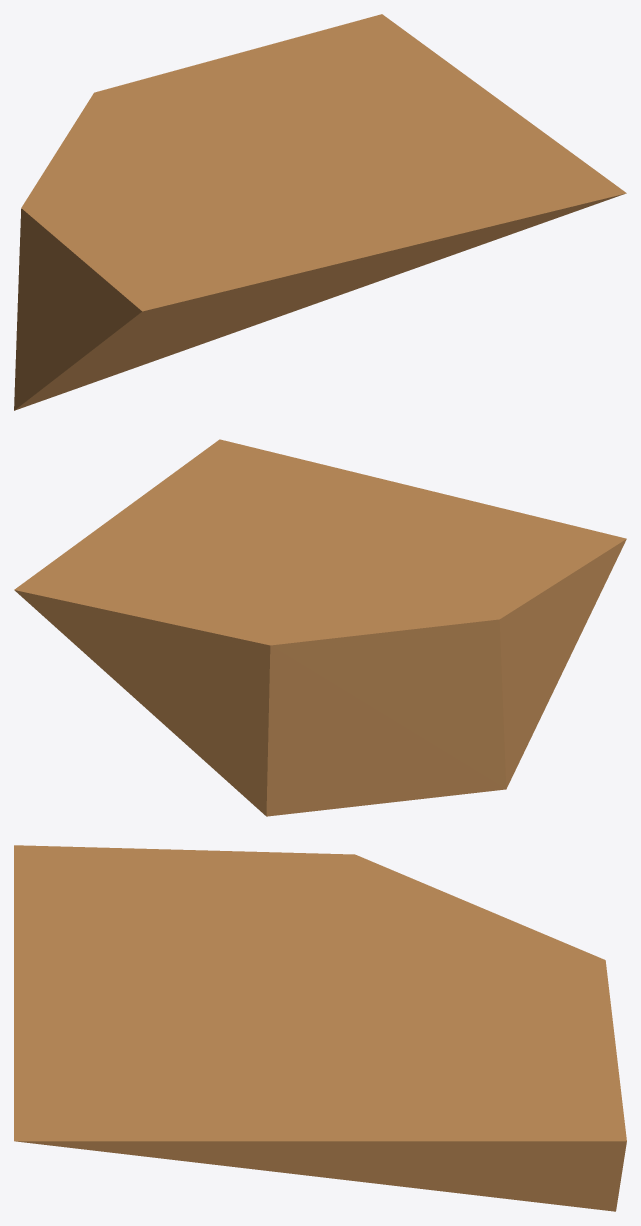
File: simple_example_hole_part_46.obj
3 renders of one model, top to bottom at view 1: azimuth 30°, elevation 25°; view 2: azimuth 150°, elevation 25°; view 3: azimuth 270°, elevation 25°, orthographic. The views are drawn at different scales.
Size of the model in its own units: 9.23 by 3.65 by 8.08.
